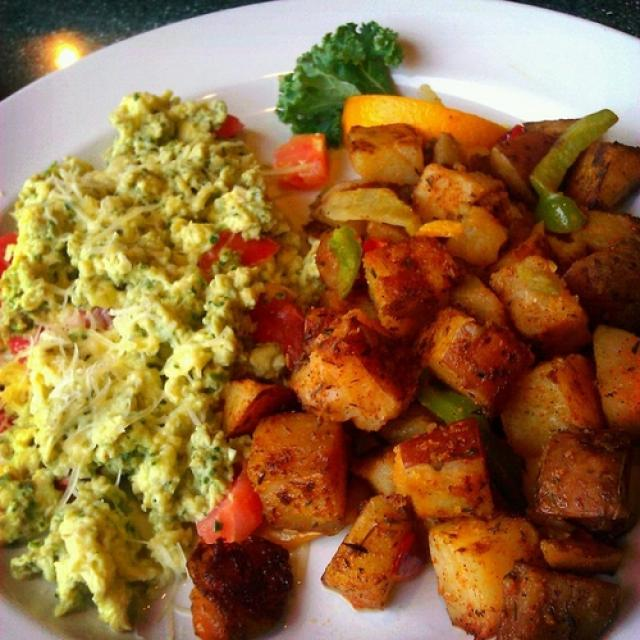鸡蛋料理: (8, 77, 288, 626)
